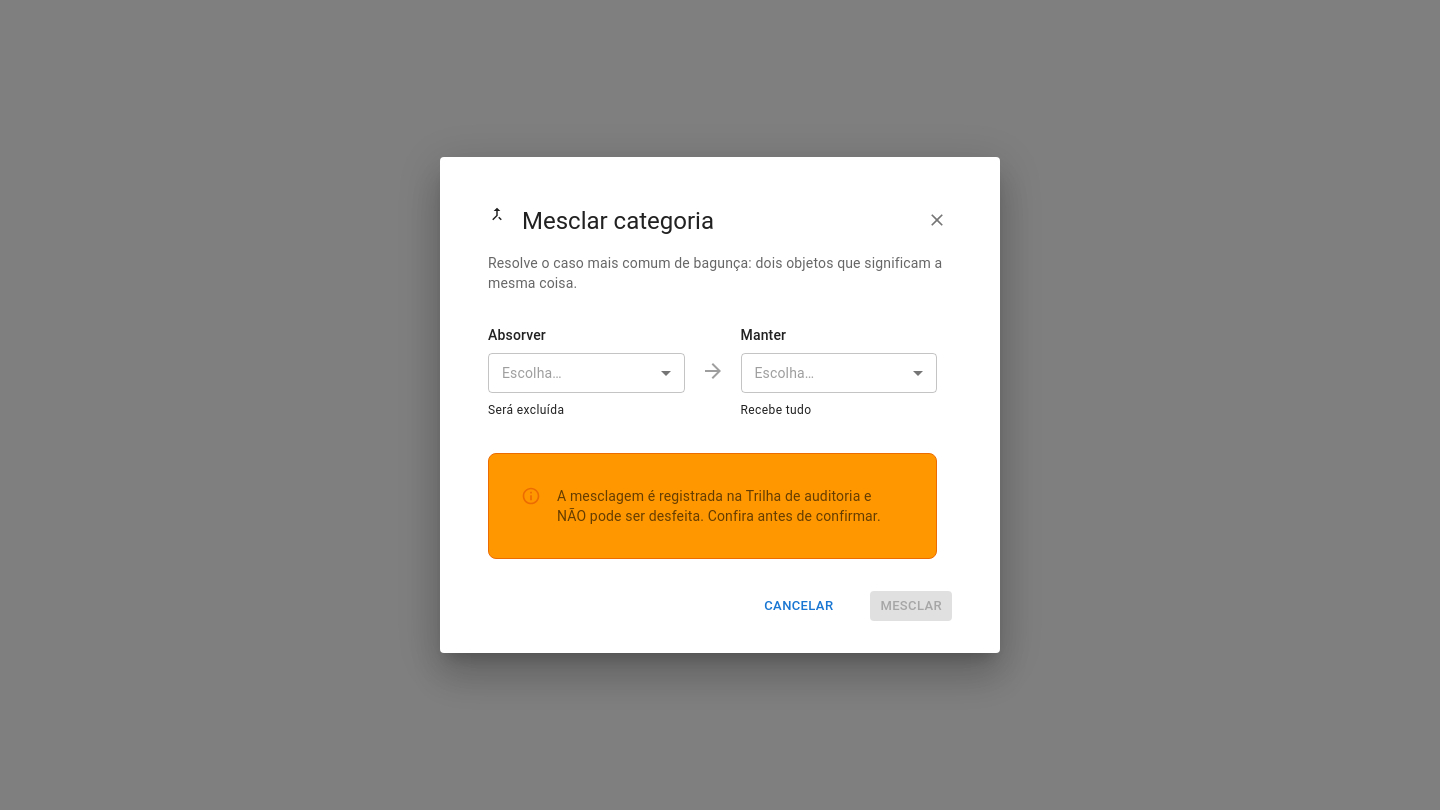
Test: MergeDialog › desabilita a confirmação e mostra o aviso quando os dois lados são o mesmo objeto
Click the dropdown named "Absorver" at (532, 373), box [502, 365, 562, 381]
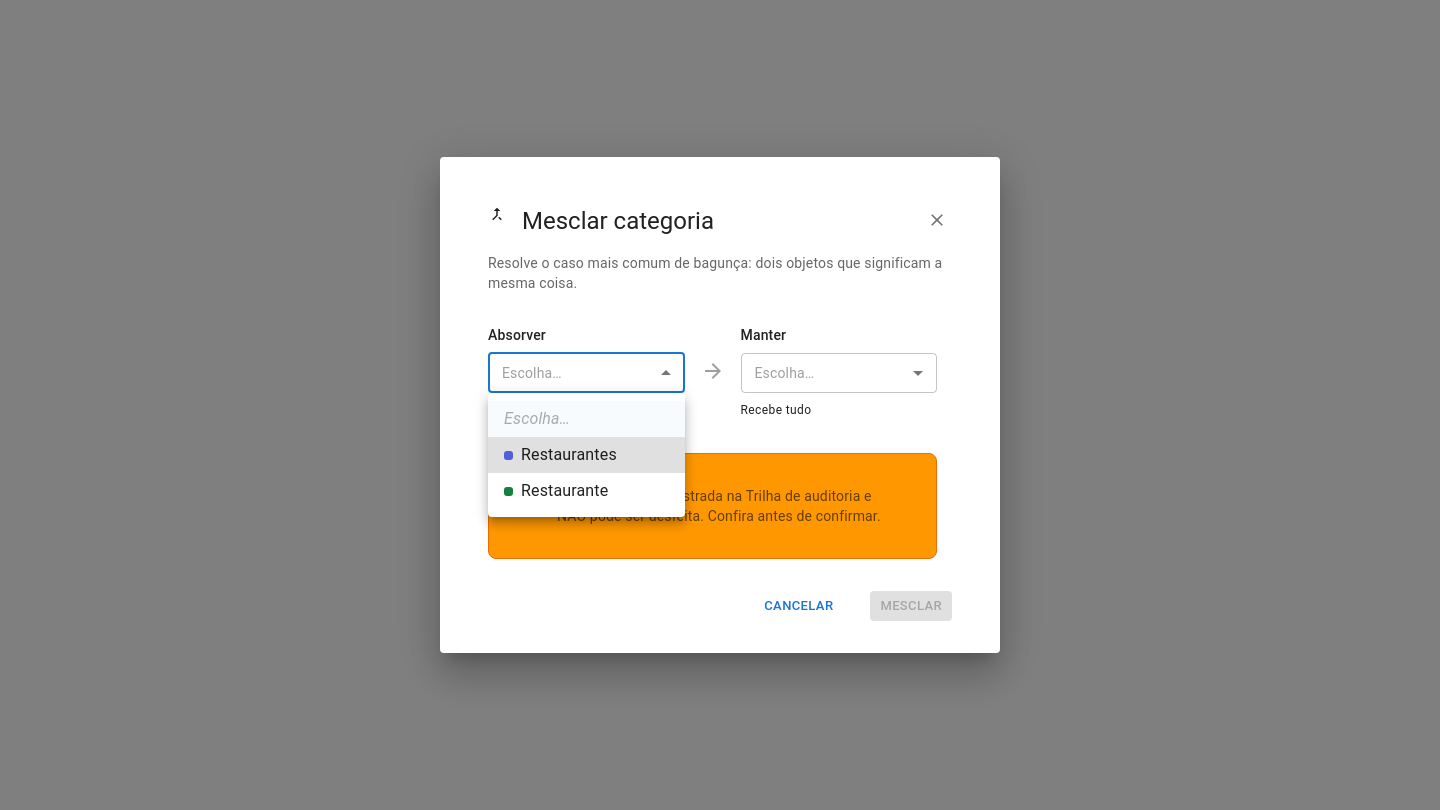
Click the option "Restaurantes" at (586, 455), box [488, 437, 685, 473]
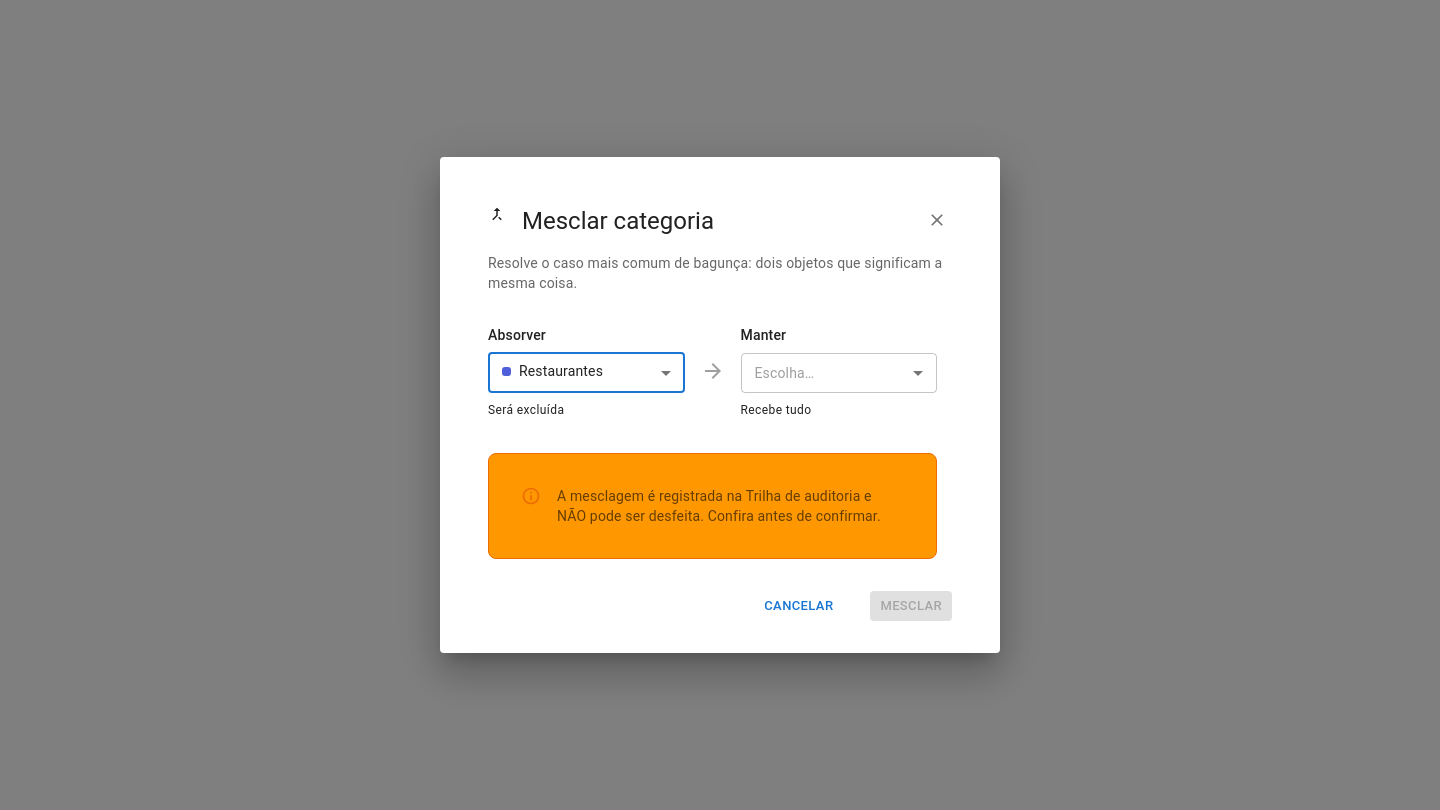
Click the dropdown named "Manter" at (784, 373), box [754, 365, 814, 381]
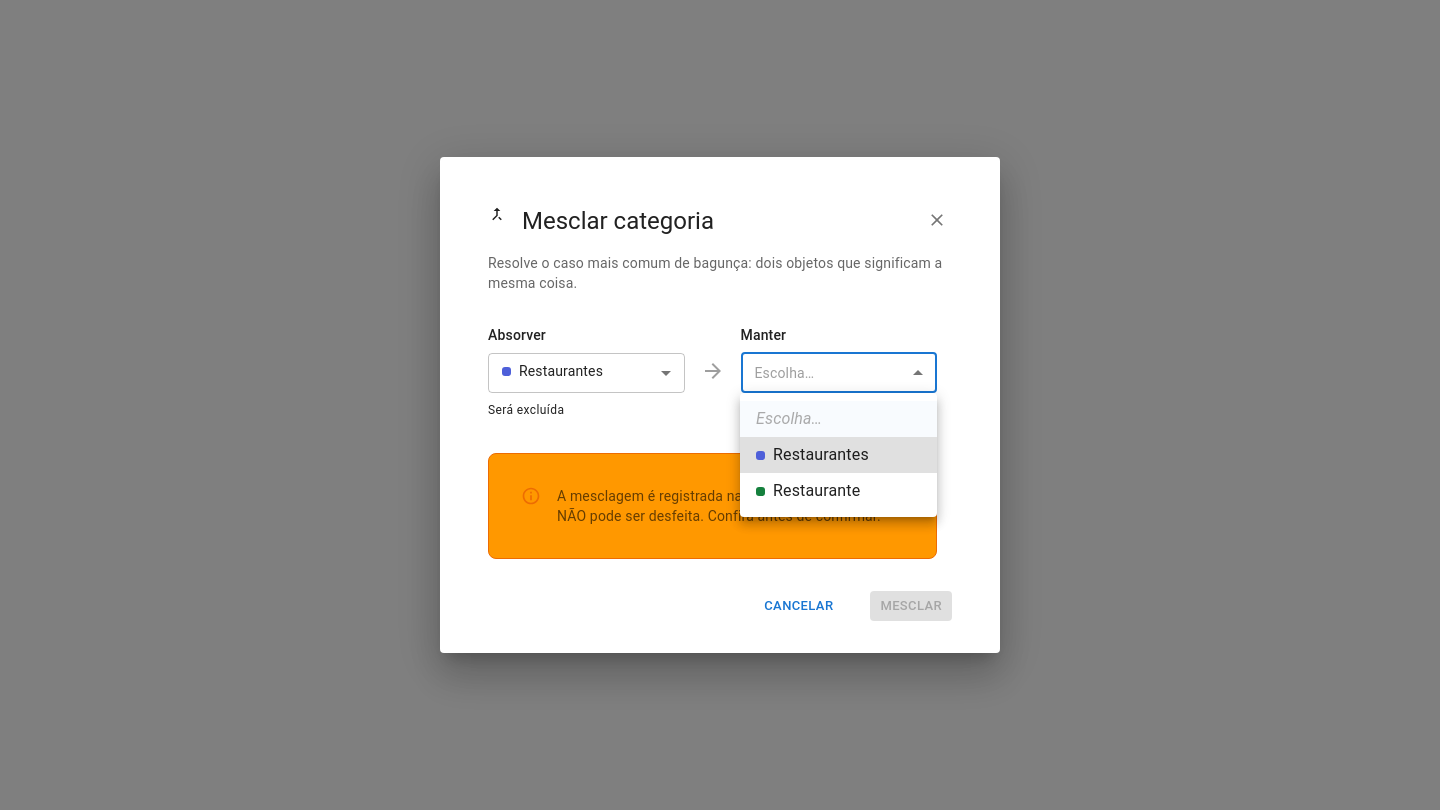
Click the option "Restaurantes" at (838, 455), box [740, 437, 937, 473]
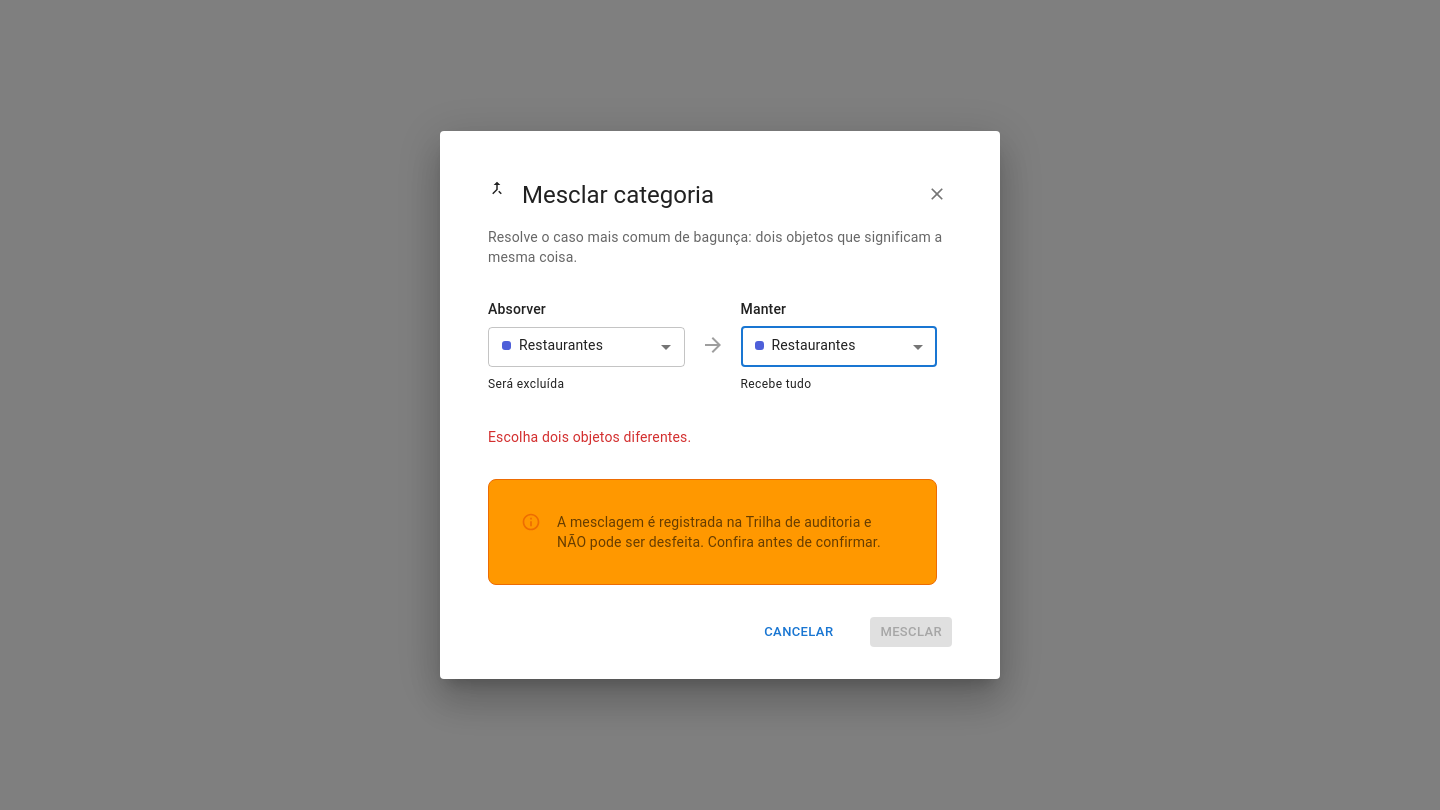
Expected: the button "Mesclar" is disabled, [870, 617, 952, 647]
Expected: the text "Escolha dois objetos diferentes." is shown, [488, 429, 691, 445]
